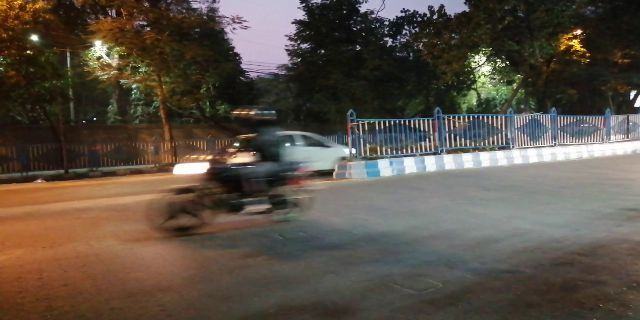Motorbike: (146, 107, 312, 229)
